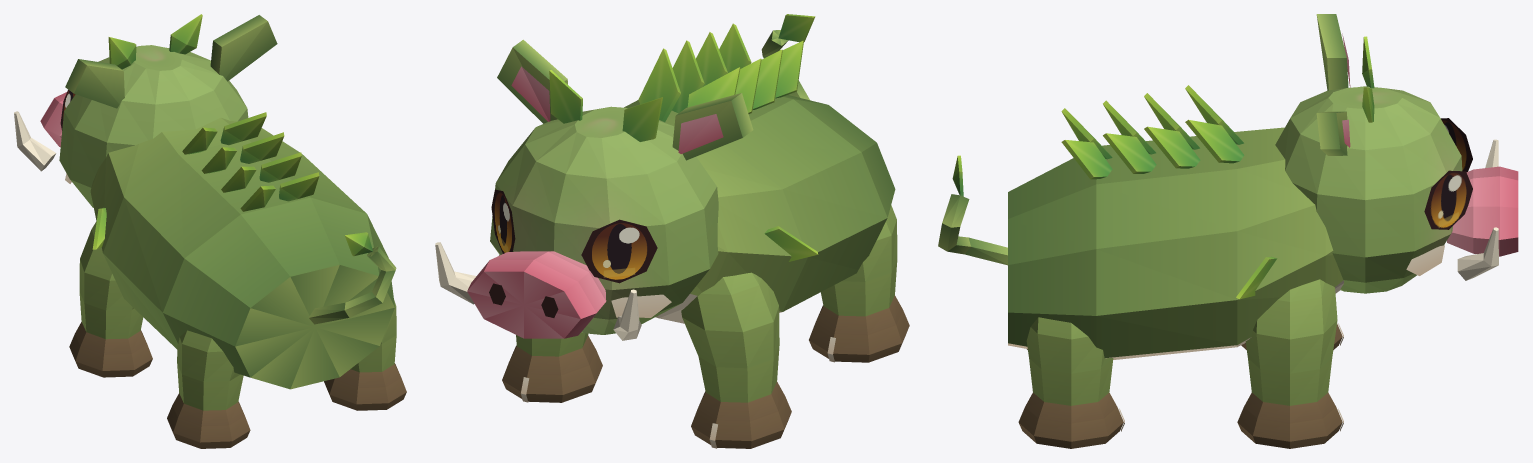
The model's file is BrambleBoar_S3_FacetedReview.obj.
The picture shows the model from 3 angles, left to right: view 1: azimuth 30°, elevation 25°; view 2: azimuth 150°, elevation 25°; view 3: azimuth 270°, elevation 25°; orthographic projection. The views are drawn at different scales.
Visible parts, largest first — view 1: Body, Head, LeftBackLeg, LeftFrontLeg, RightBackLeg, RightEar, LeftEar, Tail, LeftTusk, RightBrambleRidge0, RightBrambleRidge1, RightForeheadLeaf (+10 smaller); view 2: Body, Head, LeftFrontLeg, Snout, LeftBackLeg, RightFrontLeg, LeftEye, LeftEar, RightEar, RightBrambleRidge0, LeftForeheadLeaf, RightBrambleRidge1 (+16 smaller); view 3: Body, Head, RightFrontLeg, RightBackLeg, Snout, RightEye, Tail, LeftEar, RightBrambleRidge0, RightBrambleRidge1, RightBrambleRidge2, RightEar (+8 smaller).
Boxes of the visible parts, x1,y1,x2,y2 form: Body: (90, 117, 394, 389); Head: (59, 45, 248, 207); LeftBackLeg: (167, 330, 250, 448); LeftFrontLeg: (69, 221, 152, 377); RightBackLeg: (324, 300, 406, 410); RightEar: (210, 15, 277, 81); LeftEar: (65, 59, 124, 108); Tail: (309, 246, 396, 324); LeftTusk: (14, 111, 56, 171); RightBrambleRidge0: (220, 112, 266, 145); RightBrambleRidge1: (240, 132, 284, 163); RightForeheadLeaf: (169, 14, 202, 54); Body: (624, 95, 895, 323); Head: (490, 106, 718, 334); LeftFrontLeg: (681, 272, 791, 448); Snout: (467, 251, 606, 338); LeftBackLeg: (809, 205, 909, 362); RightFrontLeg: (502, 332, 602, 402); LeftEye: (581, 219, 657, 283); LeftEar: (672, 93, 753, 160); RightEar: (497, 39, 567, 123); RightBrambleRidge0: (638, 48, 680, 122); LeftForeheadLeaf: (622, 97, 662, 141); RightBrambleRidge1: (672, 40, 704, 113); Body: (1008, 127, 1343, 359); Head: (1275, 86, 1462, 293); RightFrontLeg: (1237, 279, 1342, 448); RightBackLeg: (1018, 317, 1123, 448); Snout: (1447, 166, 1518, 256); RightEye: (1424, 170, 1472, 229); Tail: (938, 194, 1007, 265); LeftEar: (1316, 14, 1348, 90); RightBrambleRidge0: (1185, 119, 1244, 163); RightBrambleRidge1: (1144, 126, 1200, 168); RightBrambleRidge2: (1103, 133, 1156, 173); RightEar: (1316, 111, 1347, 155).
Size of the model in its own units: 4.29 by 5 by 8.06.
1 material, 1 textured.
